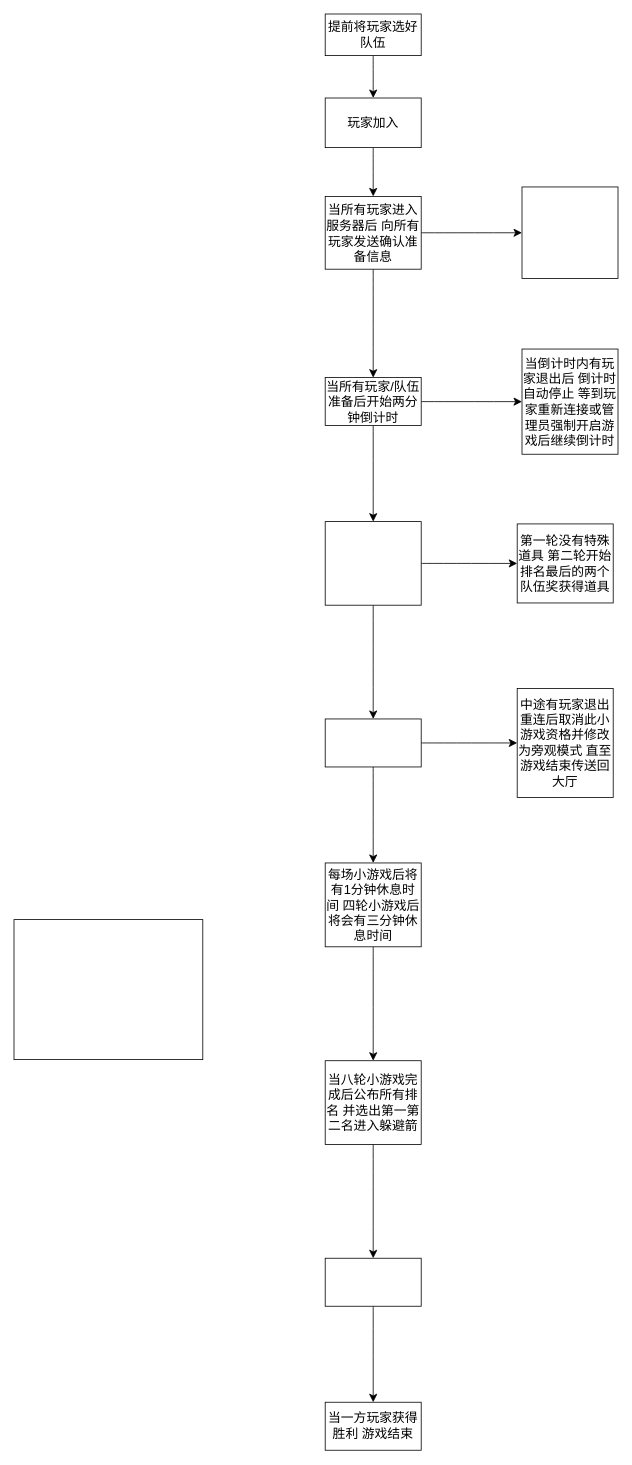
The diagram is 632 pixels wide and 1465 high, and some of its shapes have lost their labels. The centre of each missing label's shape, as x and y in pixels:
传送至小游戏服: point (372, 742)
传送至投票区域 每次投票为40秒 倒计时剩余10秒后分隔区域并计算投票数: point (372, 563)
注:准备信息有效时间为一分钟 时间过即无效 准备信息只显示xx队伍已准备: point (569, 232)
管理员拥有停止游戏 继续游戏 暂停游戏等权限: point (108, 989)
躲避箭才用三胜 详情请看wiki规则介绍: point (372, 1281)
